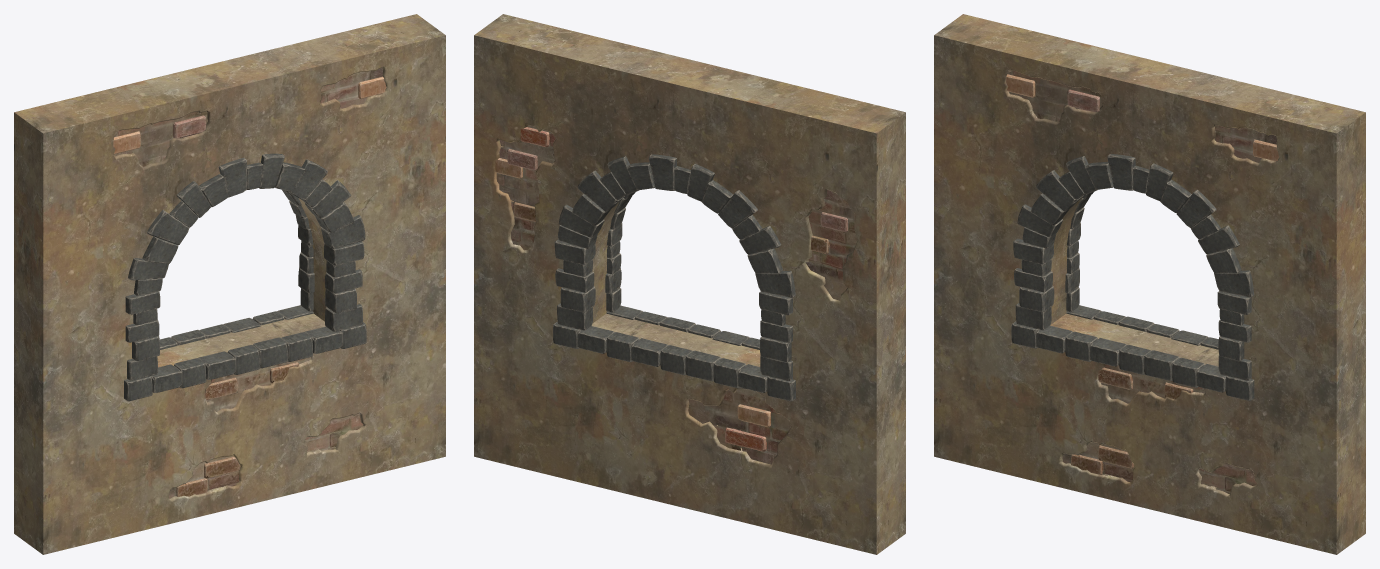
3 views of the same model, side by side, from view 1: azimuth 30°, elevation 25°; view 2: azimuth 150°, elevation 25°; view 3: azimuth 330°, elevation 25° (orthographic).
Visible parts, largest first — view 1: SM_Human_Ruins_Window_03v1_LOD0; view 2: SM_Human_Ruins_Window_03v1_LOD0; view 3: SM_Human_Ruins_Window_03v1_LOD0.
Part boxes in pixels (box(x1,y1,x2,y2)): SM_Human_Ruins_Window_03v1_LOD0: box(14, 14, 445, 554); SM_Human_Ruins_Window_03v1_LOD0: box(474, 14, 905, 554); SM_Human_Ruins_Window_03v1_LOD0: box(934, 14, 1365, 554).
Bounding box in the file's own units: 4 × 4 × 0.6674.
4 materials, 4 textured.
